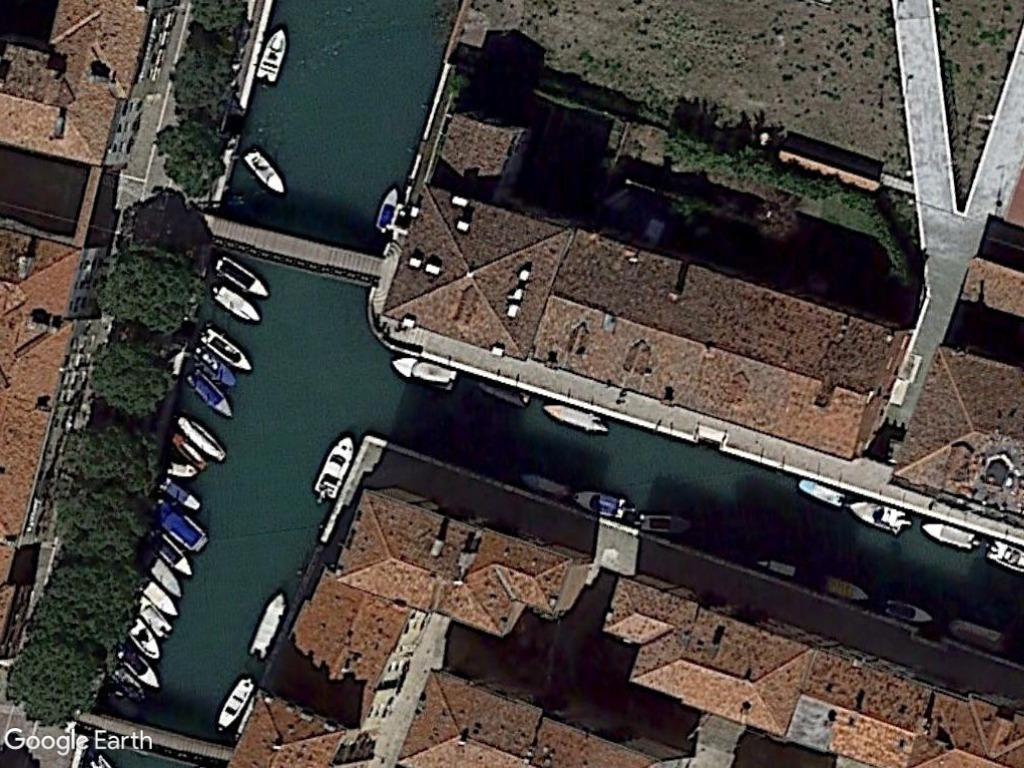boat: (308, 431, 358, 505), (385, 351, 462, 396), (246, 587, 289, 662), (537, 399, 614, 439), (196, 322, 254, 375), (212, 250, 273, 299), (569, 485, 640, 526), (176, 408, 228, 462), (212, 673, 257, 733), (183, 368, 234, 420), (111, 639, 161, 692), (848, 496, 911, 536), (238, 147, 287, 197), (211, 282, 261, 330), (253, 27, 291, 87), (917, 518, 980, 554), (192, 339, 236, 389), (791, 477, 847, 510), (820, 571, 872, 605), (881, 597, 936, 628), (372, 184, 401, 236), (638, 511, 693, 536)
